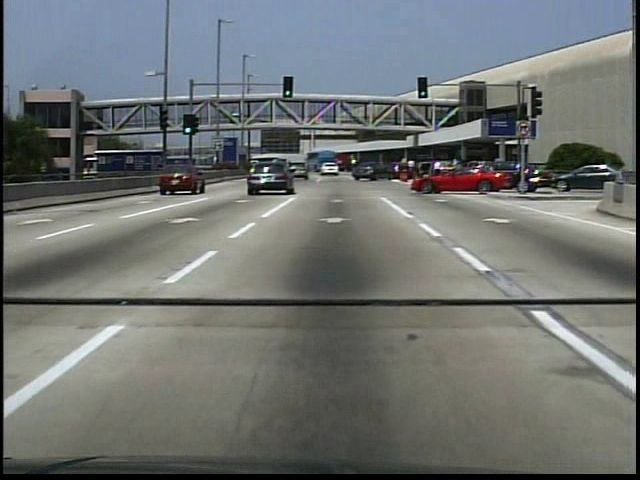person: (407, 160, 417, 183), (434, 161, 442, 179), (230, 114, 238, 129)
